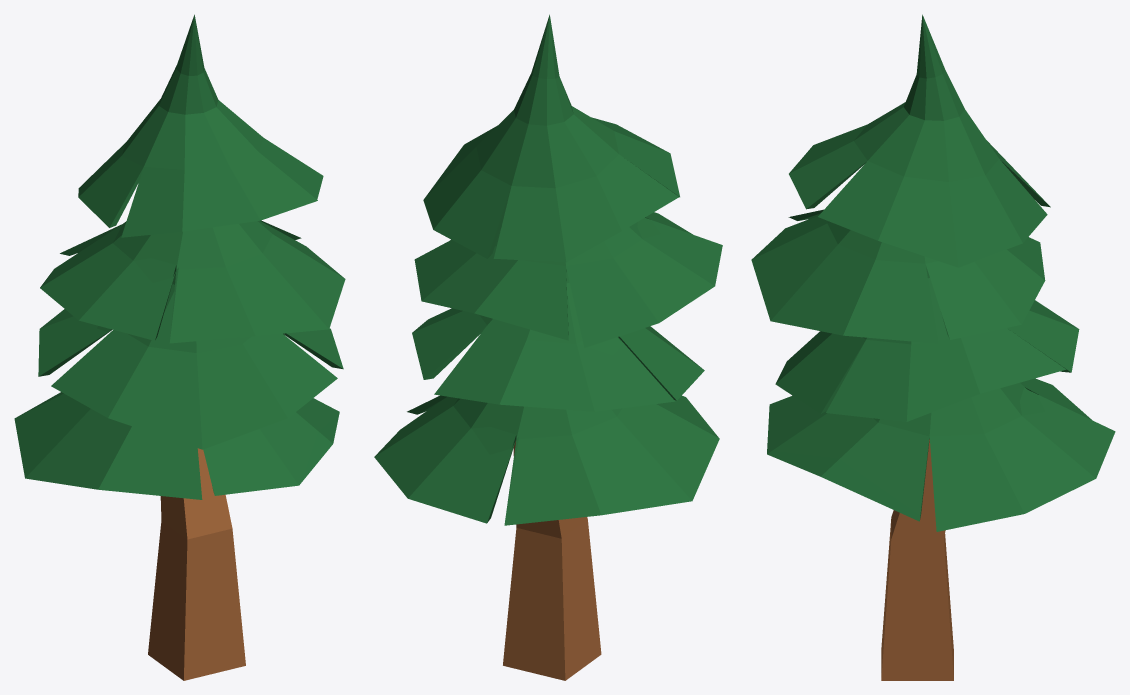
File: Christmas Tree_1.fbx
The picture shows the model from 3 angles, left to right: view 1: azimuth 30°, elevation 25°; view 2: azimuth 150°, elevation 25°; view 3: azimuth 270°, elevation 25°; orthographic projection.
Parts seen in each view (by area): view 1: M_Christmas Tree 1; view 2: M_Christmas Tree 1; view 3: M_Christmas Tree 1.
Boxes of the visible parts, x1,y1,x2,y2 form: M_Christmas Tree 1: [14, 14, 345, 680]; M_Christmas Tree 1: [374, 14, 722, 680]; M_Christmas Tree 1: [751, 14, 1115, 680].
Bounding box in the file's own units: 120 × 247 × 125.
Materials: 1 (1 with a texture image).
